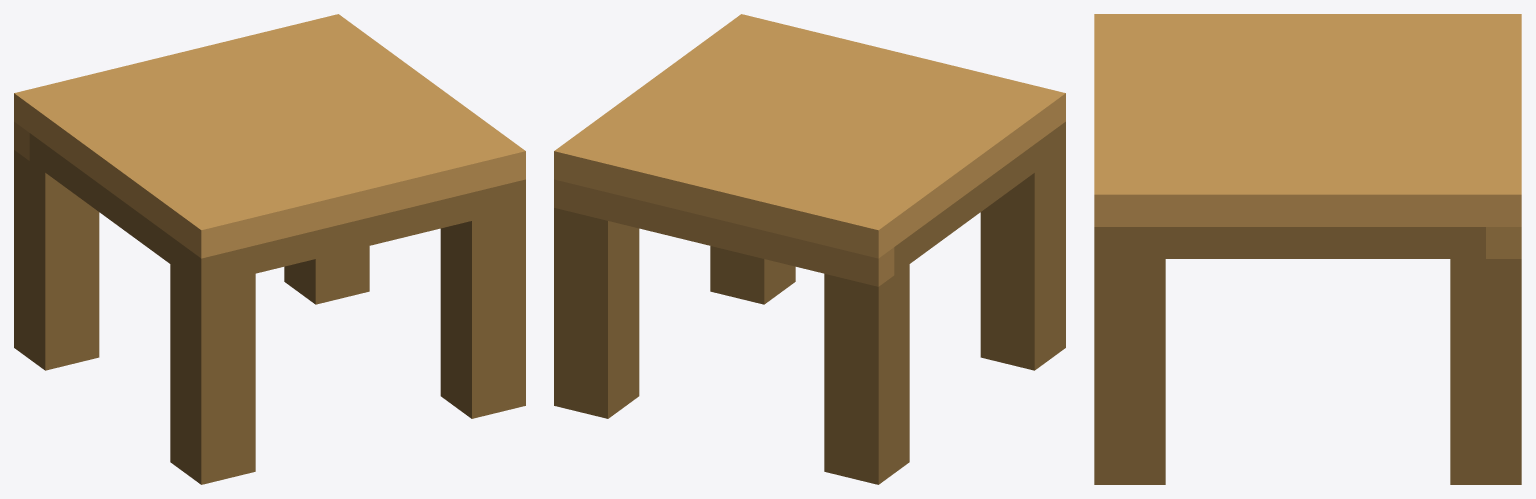
The model's file is mesa_destilado_esencias_cobre_01.glb.
3 views of the same model, side by side, from view 1: azimuth 30°, elevation 25°; view 2: azimuth 150°, elevation 25°; view 3: azimuth 270°, elevation 25° (orthographic). The views are drawn at different scales.
Parts seen in each view (by area): view 1: mesa_destilado_esencias_cobre; view 2: mesa_destilado_esencias_cobre; view 3: mesa_destilado_esencias_cobre.
Part boxes in pixels (<box>): mesa_destilado_esencias_cobre: <box>14,14,525,484</box>; mesa_destilado_esencias_cobre: <box>554,14,1065,484</box>; mesa_destilado_esencias_cobre: <box>1094,14,1521,484</box>.
Size of the model in its own units: 1 by 0.75 by 1.
